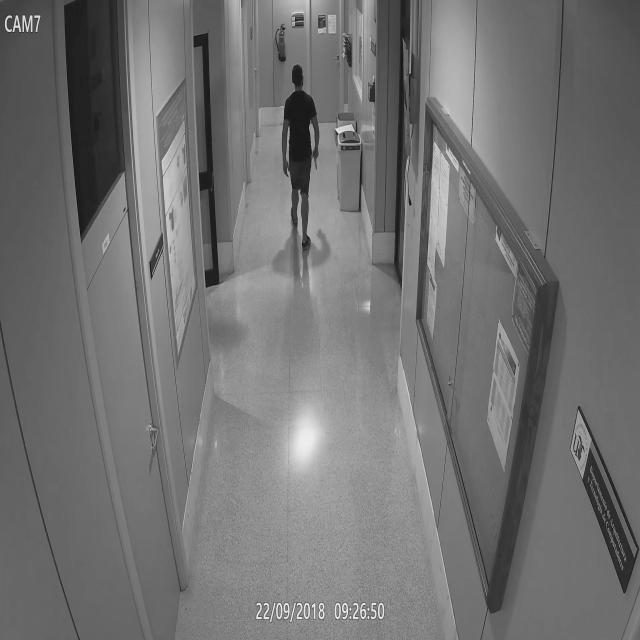gun: (308, 144, 323, 178)
person with a gun: (283, 57, 320, 261)
